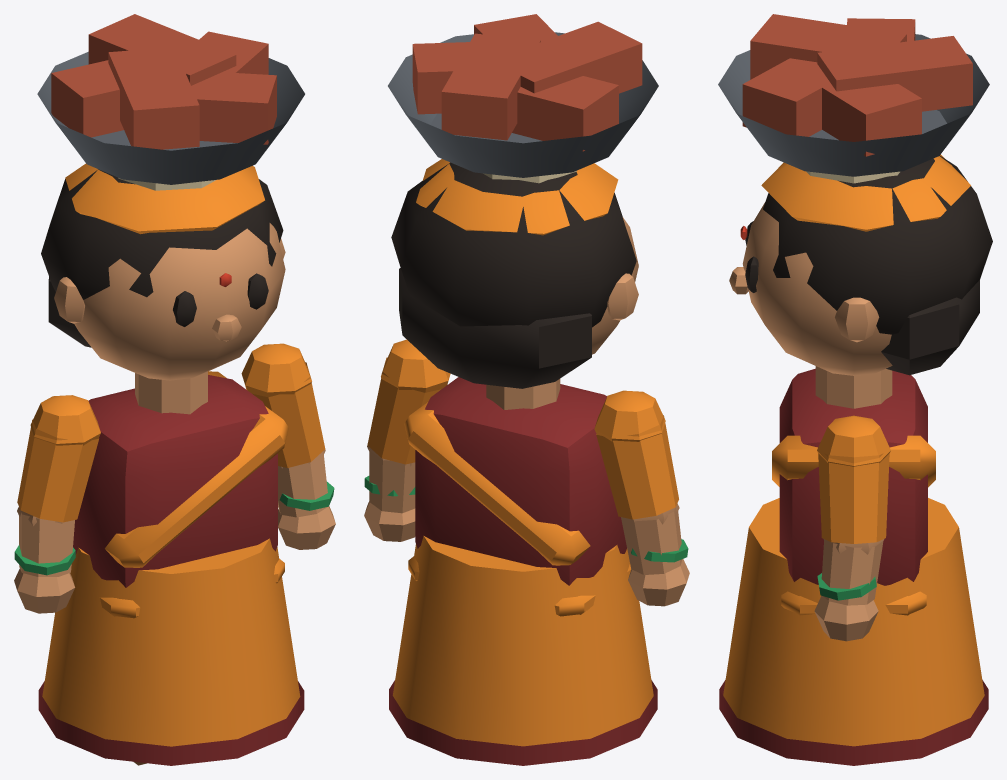
The model's file is worker_majdoorin.glb.
3 renders of one model, left to right at view 1: azimuth 30°, elevation 25°; view 2: azimuth 150°, elevation 25°; view 3: azimuth 270°, elevation 25°, orthographic.
Parts seen in each view (by area): view 1: body, head, arm_r, arm_l; view 2: body, head, arm_r, arm_l; view 3: head, body, arm_l.
Part boxes in pixels (x1,y1,x2,y2): body: [38, 371, 304, 765]; head: [37, 14, 304, 380]; arm_r: [14, 395, 100, 613]; arm_l: [241, 343, 335, 549]; body: [389, 377, 657, 765]; head: [388, 14, 658, 388]; arm_r: [594, 390, 689, 606]; arm_l: [364, 339, 450, 541]; head: [718, 14, 992, 375]; body: [719, 366, 988, 765]; arm_l: [814, 415, 890, 641].
Bounding box in the file's own units: 0.5681 × 1.15 × 0.4227.
1 material, 1 textured.
